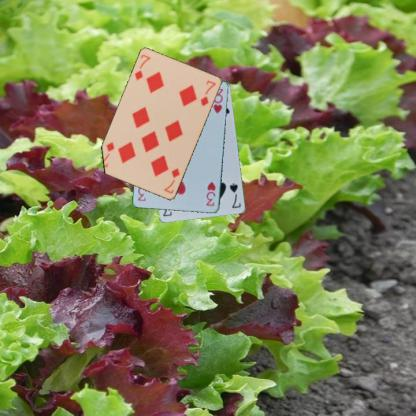3h: (203, 179, 217, 208)
7d: (132, 52, 152, 81), (162, 166, 181, 195)
7s: (227, 180, 242, 210)
